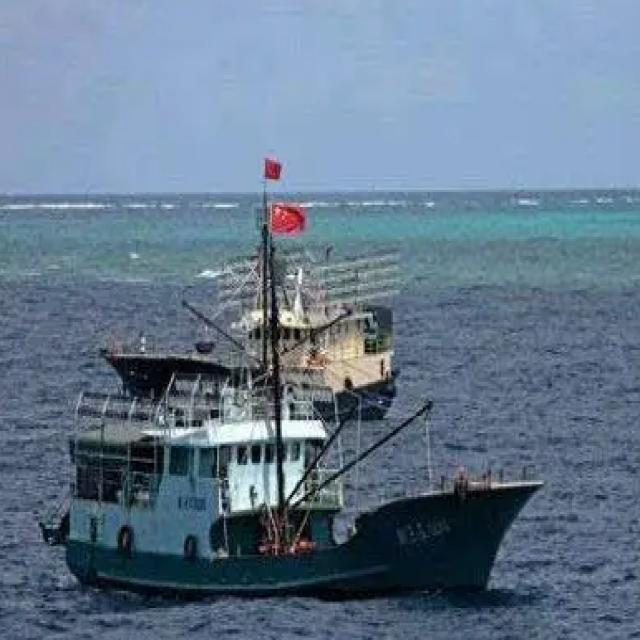fishing boat: (55, 342, 538, 600), (237, 212, 409, 414)
